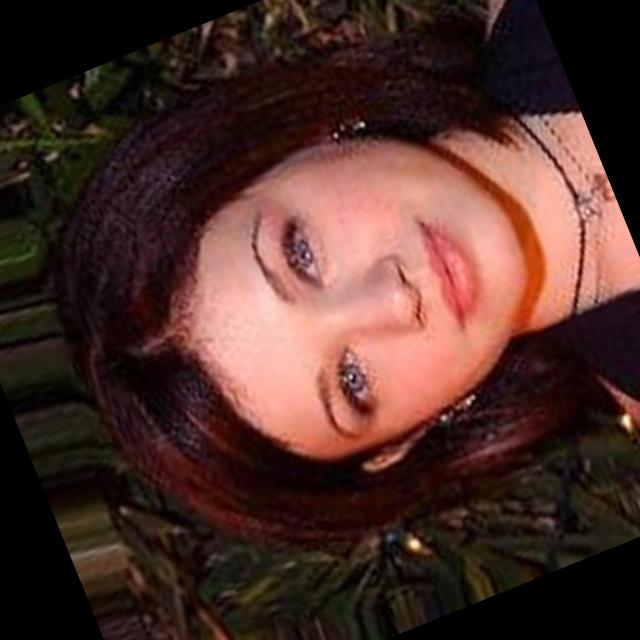bareface: (64, 72, 586, 549)
